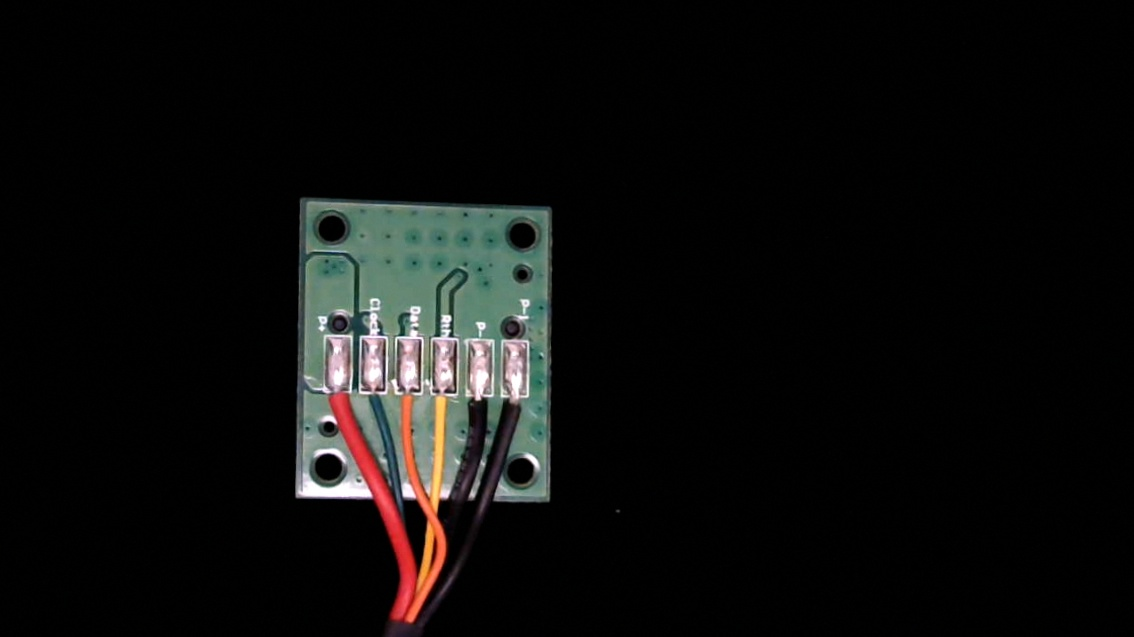Black: (464, 376, 496, 442)
Black1: (500, 379, 531, 440)
Green: (359, 368, 391, 432)
Orange: (393, 375, 423, 441)
Red: (324, 370, 356, 434)
Yellow: (429, 377, 461, 445)
